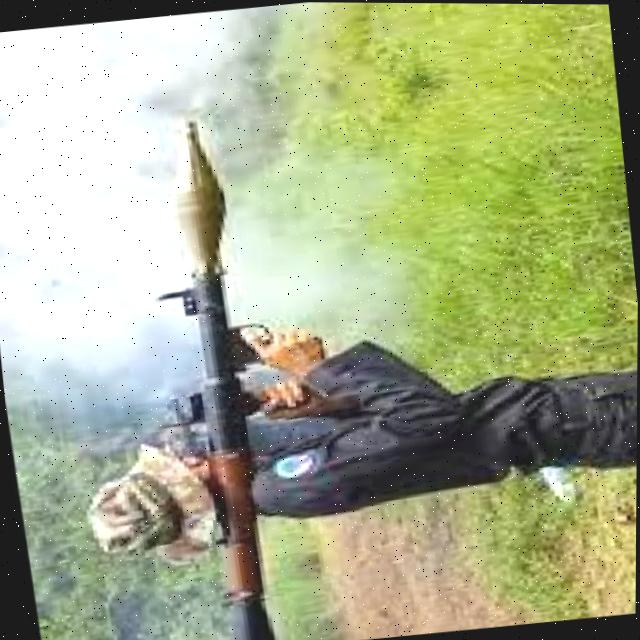rocket: (129, 110, 293, 640)
